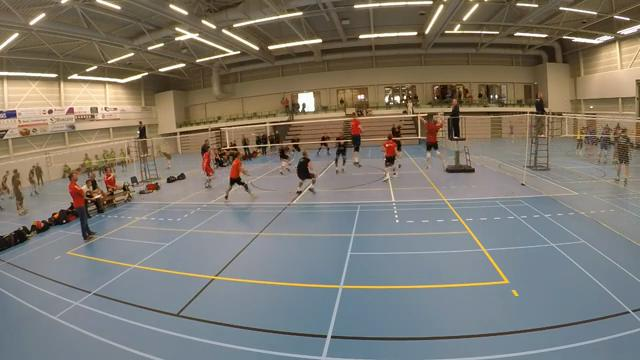Attack: (415, 108, 449, 172)
Player: (224, 154, 254, 200), (297, 150, 315, 194), (382, 134, 396, 181), (351, 113, 361, 166), (391, 124, 401, 167), (202, 149, 213, 188), (335, 134, 346, 173), (279, 145, 292, 174), (317, 133, 329, 155)
